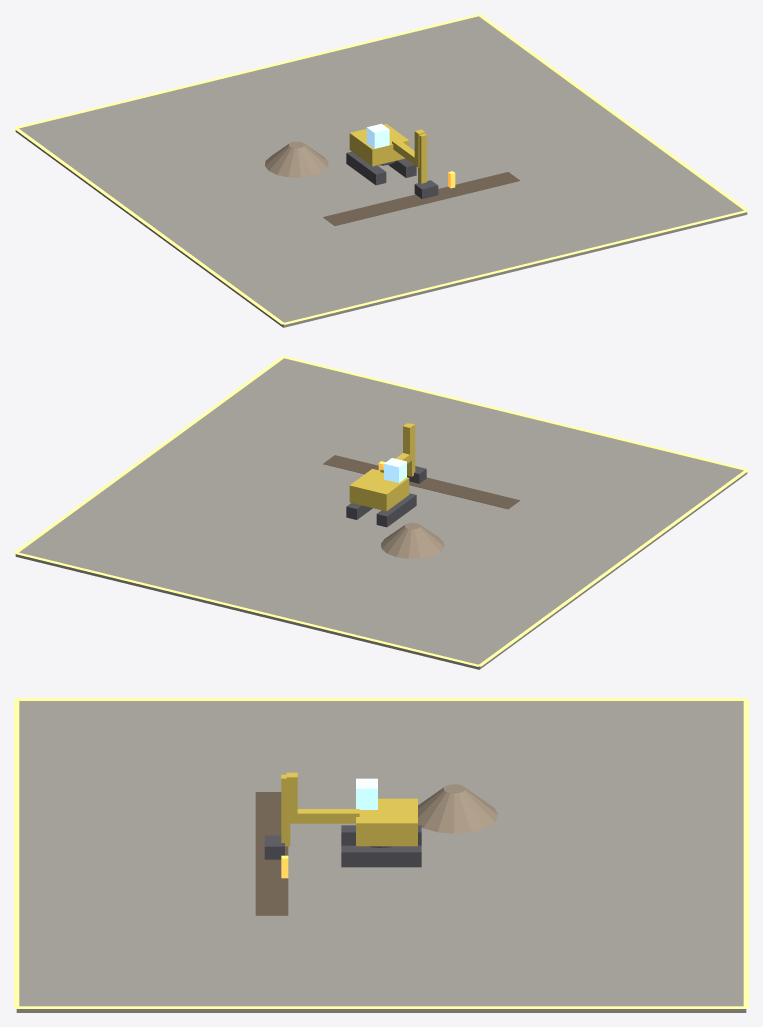
Rendered from sim-excavator-trench.glb.
3 renders of one model, top to bottom at view 1: azimuth 30°, elevation 25°; view 2: azimuth 150°, elevation 25°; view 3: azimuth 270°, elevation 25°, orthographic. The views are drawn at different scales.
Visible parts, largest first — view 1: Excavator Trench Cut; view 2: Excavator Trench Cut; view 3: Excavator Trench Cut.
Part boxes in pixels (x1=…): Excavator Trench Cut: x1=14, y1=14, x2=748, y2=327; Excavator Trench Cut: x1=14, y1=356, x2=748, y2=669; Excavator Trench Cut: x1=14, y1=698, x2=748, y2=1012.
Bounding box in the file's own units: 40.3 × 5.3 × 40.3.
